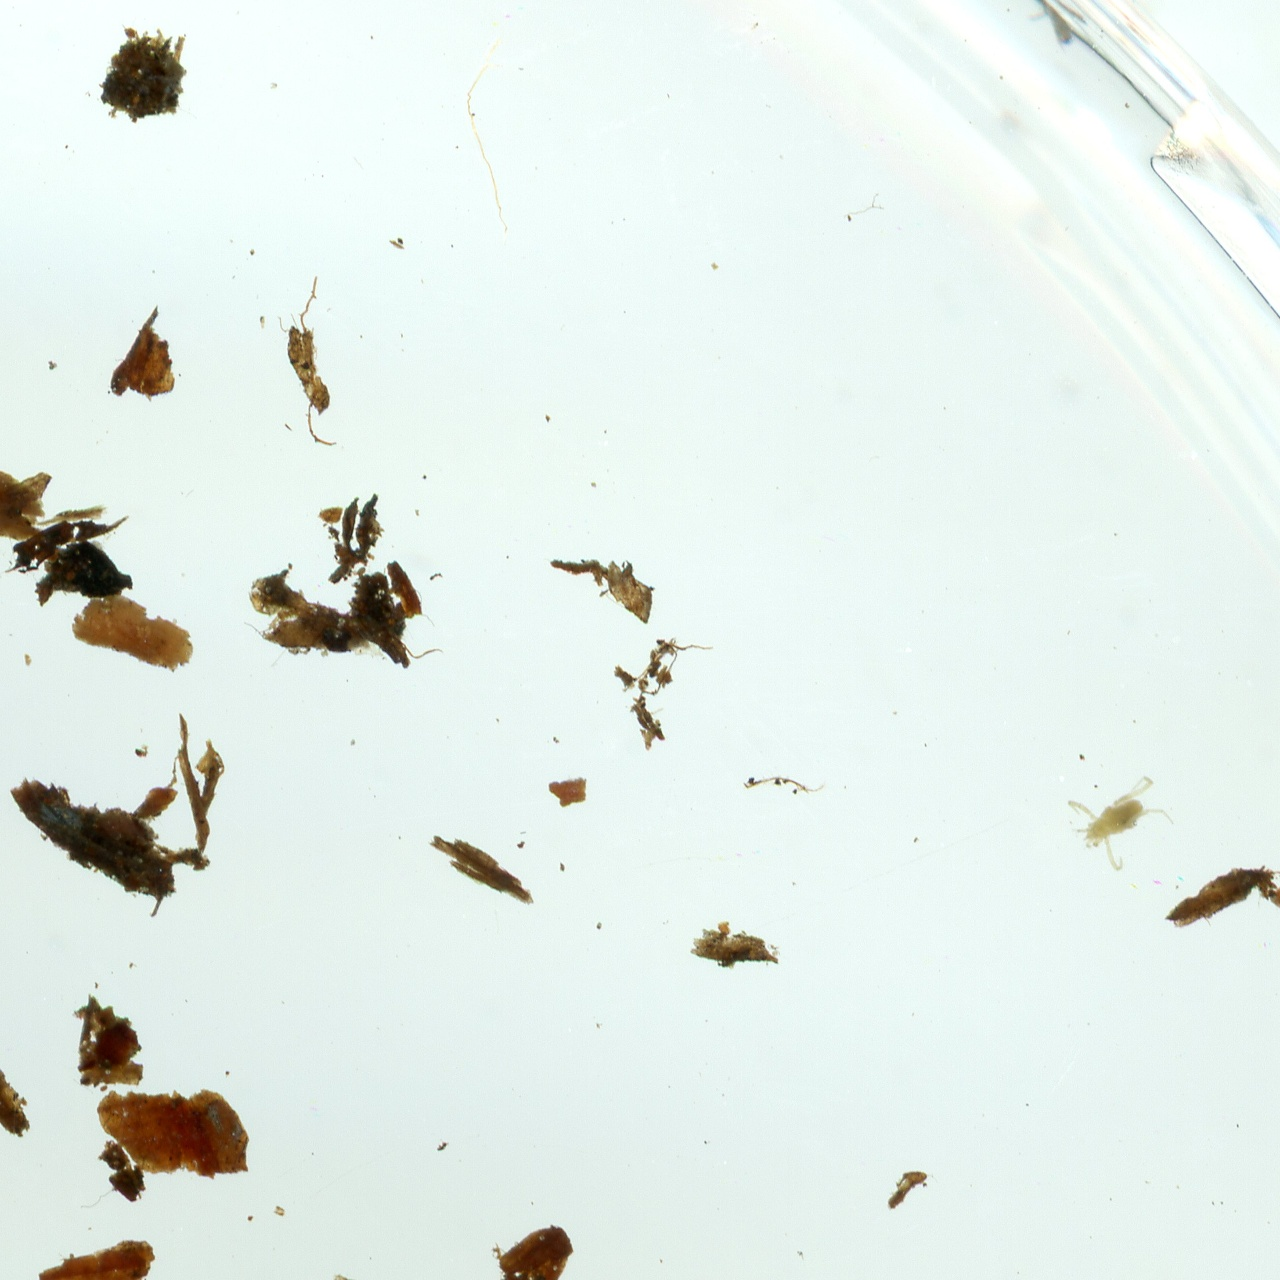arthropod: (1056, 753, 1190, 884)
